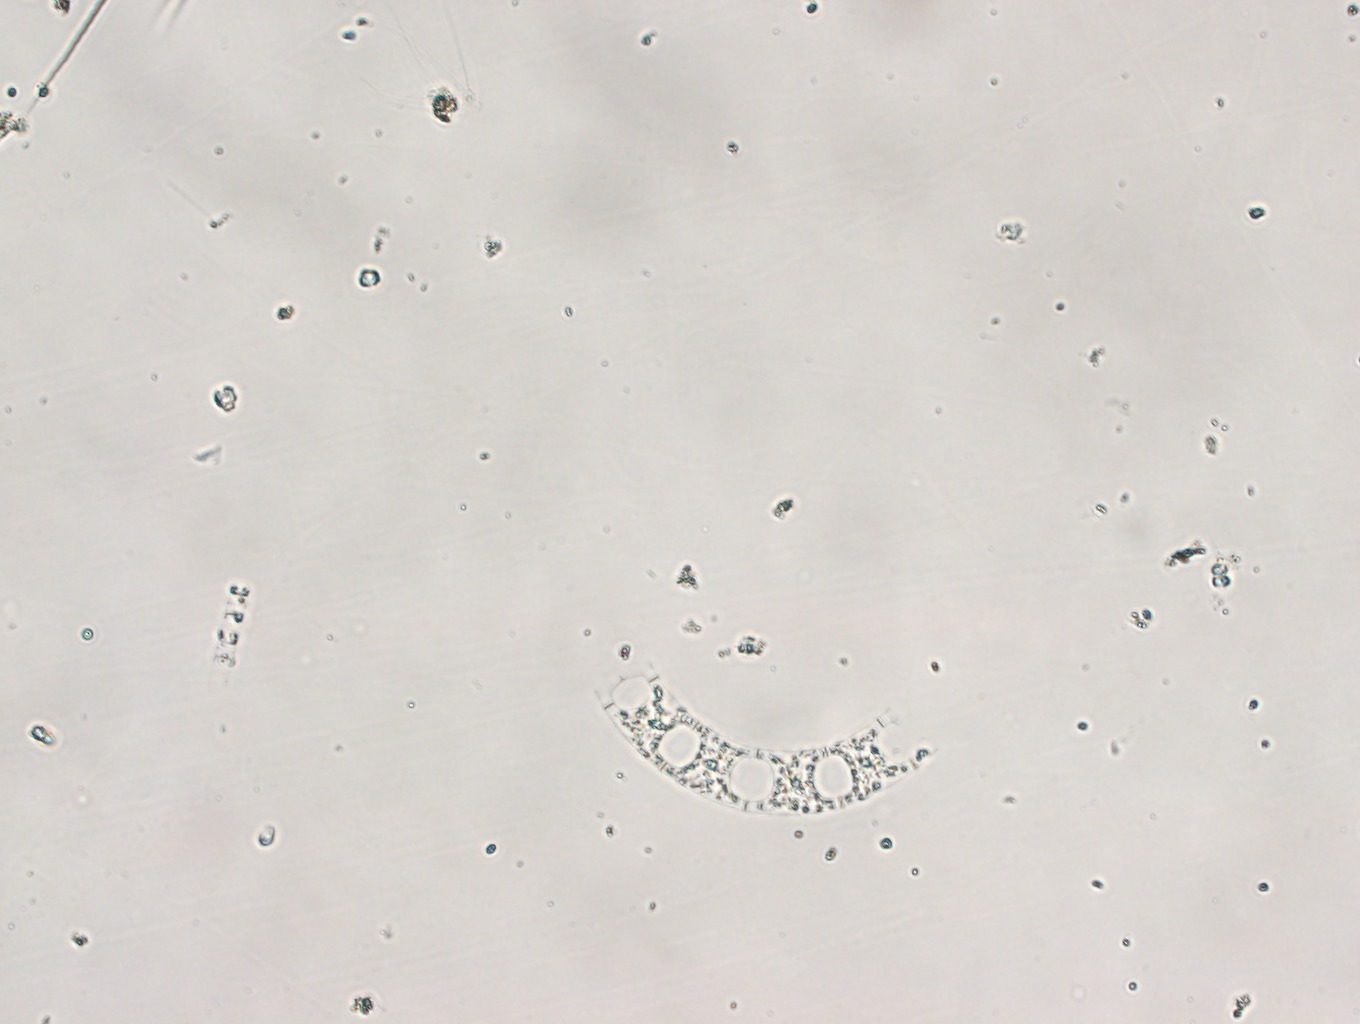eucampia: (595, 660, 944, 814)
